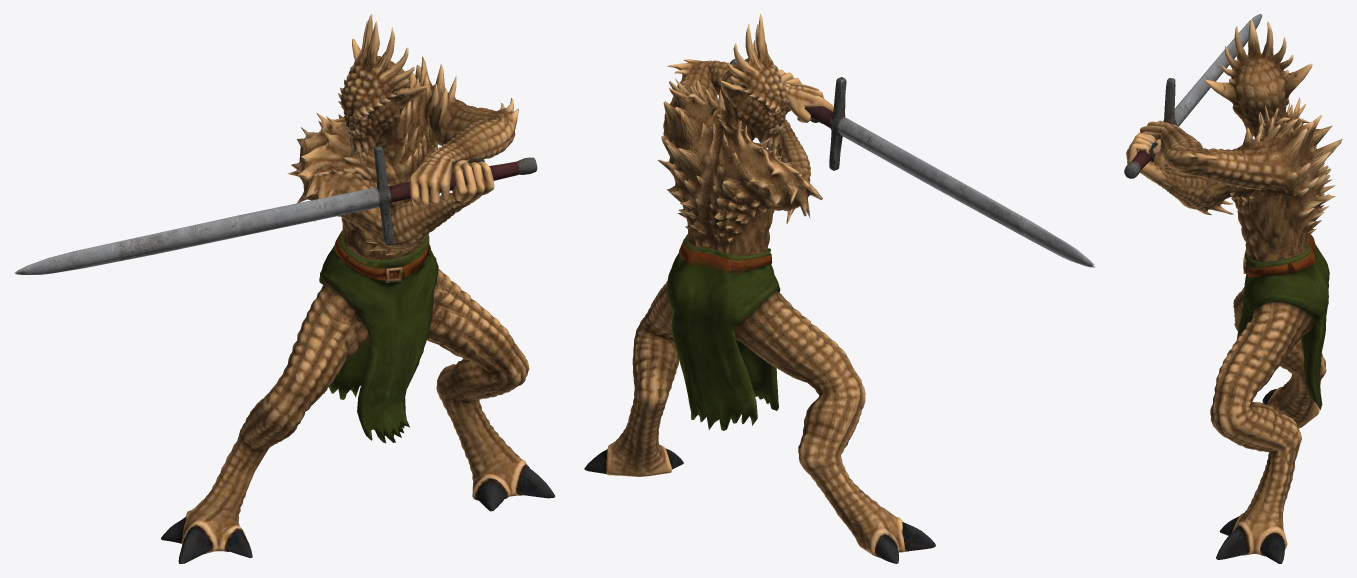
Rendered from MZ4250 - Salt Devil_greatsword.glb.
3 renders of one model, left to right at view 1: azimuth 30°, elevation 25°; view 2: azimuth 150°, elevation 25°; view 3: azimuth 270°, elevation 25°, orthographic. The views are drawn at different scales.
Visible parts, largest first — view 1: Greatsword.001; view 2: Greatsword.001; view 3: Greatsword.001.
Part boxes in pixels (<box>): Greatsword.001: <box>15,14,555,563</box>; Greatsword.001: <box>584,14,1095,563</box>; Greatsword.001: <box>1124,14,1342,563</box>.
Bounding box in the file's own units: 40.91 × 37.57 × 15.8.
Materials: 2 (2 with a texture image).
